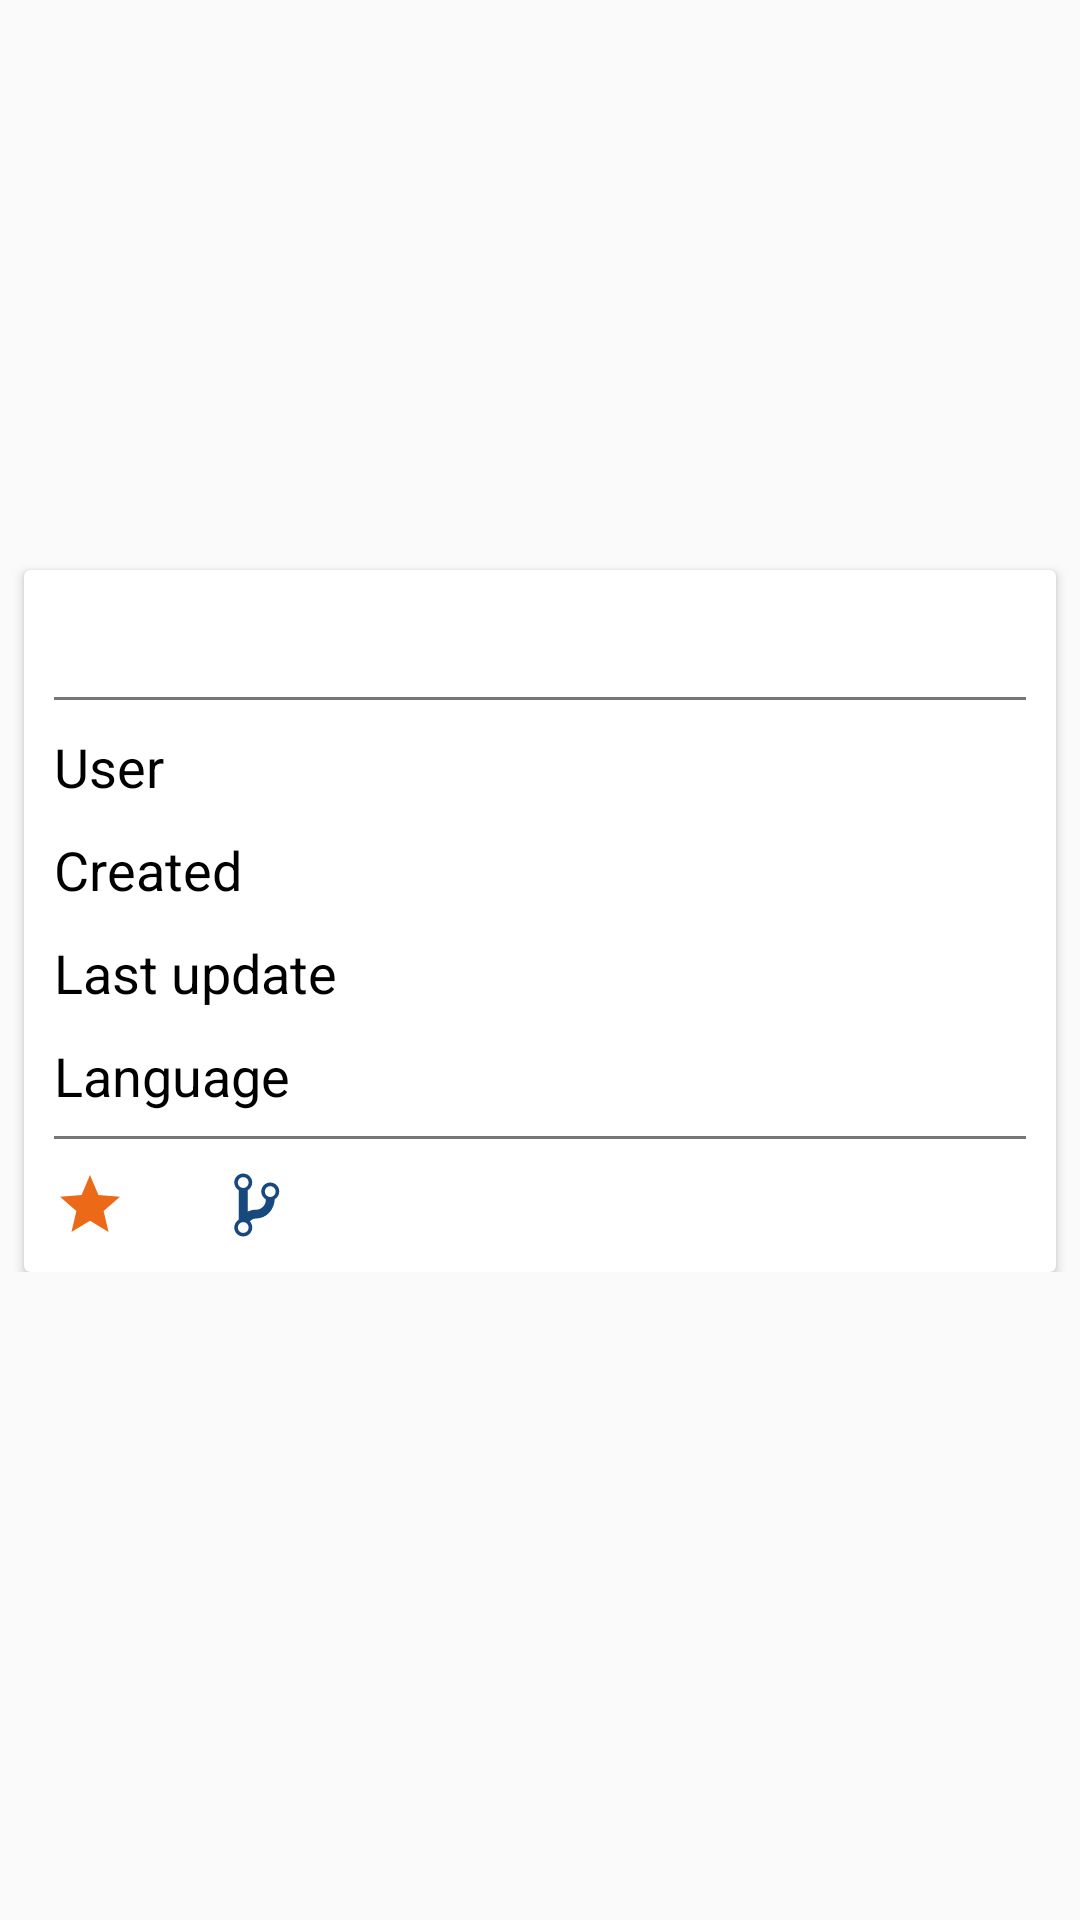

Named icons in this screenshot (1080w x 1920h) and their centers, [x,y]:
branch: [257,1205]
star: [90,1203]
